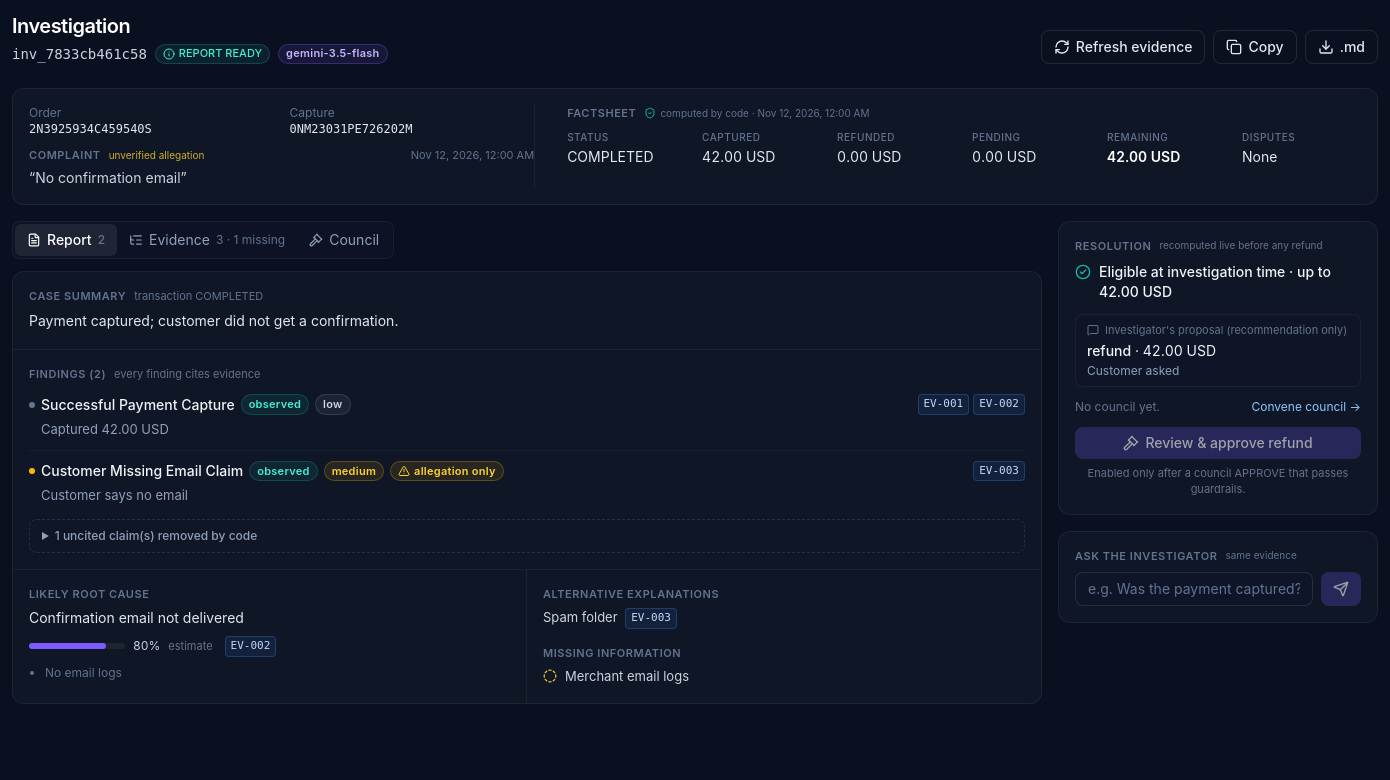
Test case: Investigation workspace › clicking an evidence chip scrolls to and highlights that evidence
Click the button with aria-label "Show evidence EV-002": [999, 405] box [973,394,1025,415]
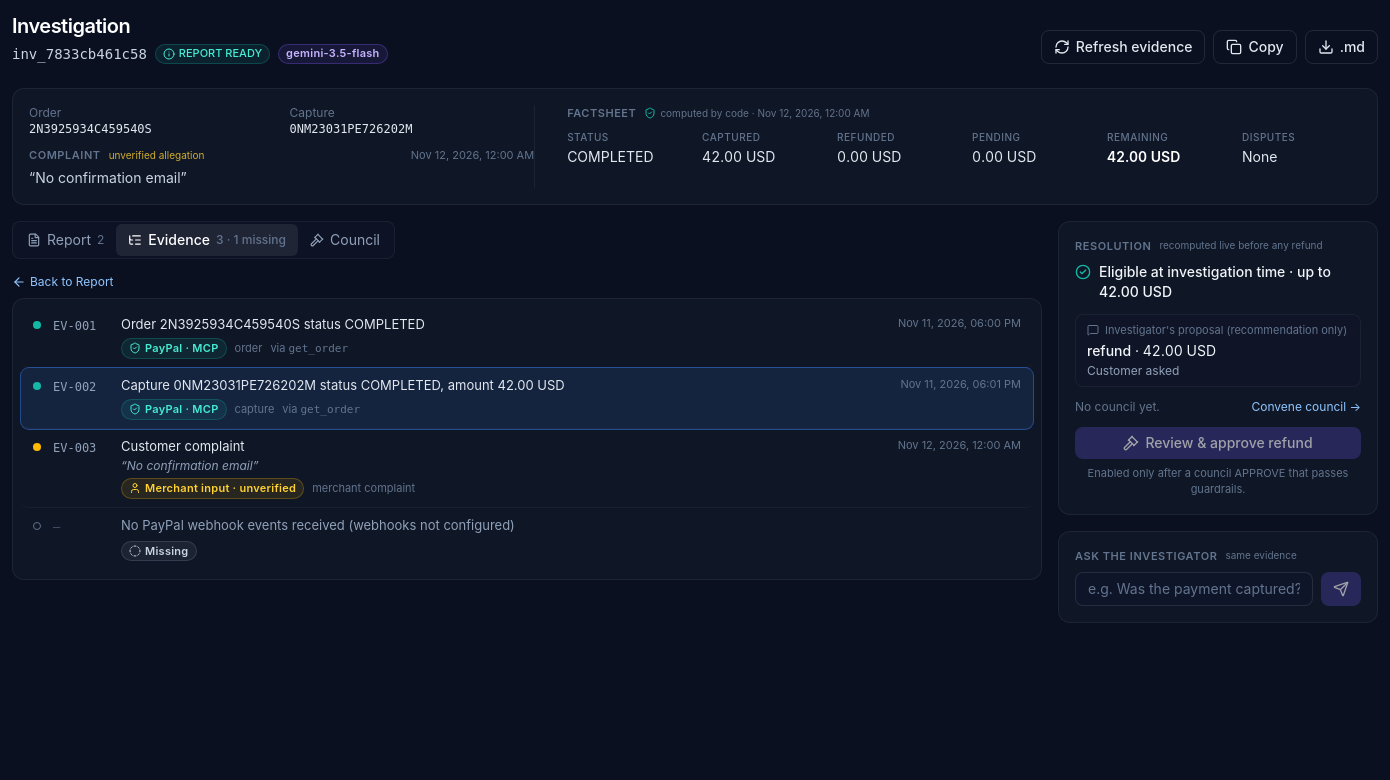
Now the tab "Evidence 3 · 1 missing" is selected, box [116,224,298,256]
A back link returns to where the citation was clicked.
Click the button "Back to Report": [63, 282] box [12,274,114,290]
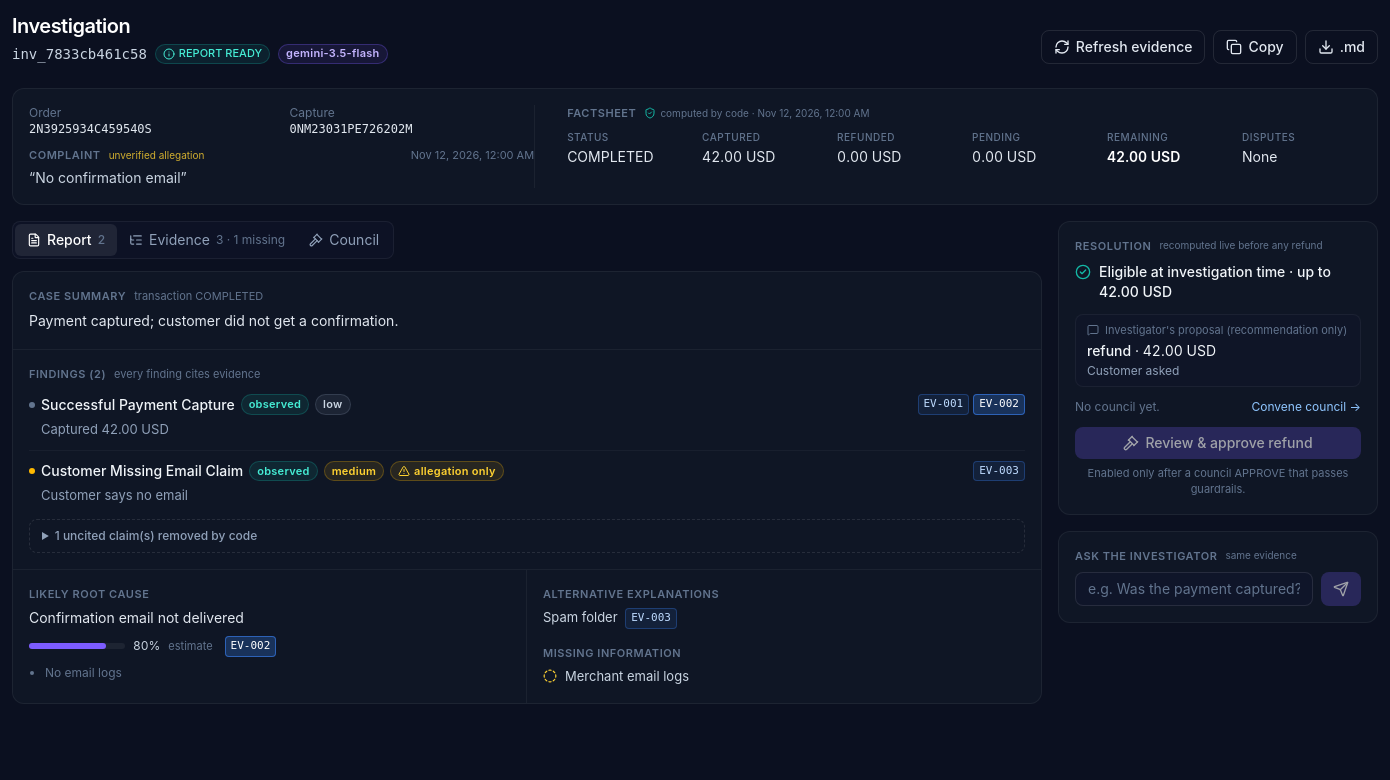
Now the text "Successful Payment Capture" is shown, box [41,394,235,414]
